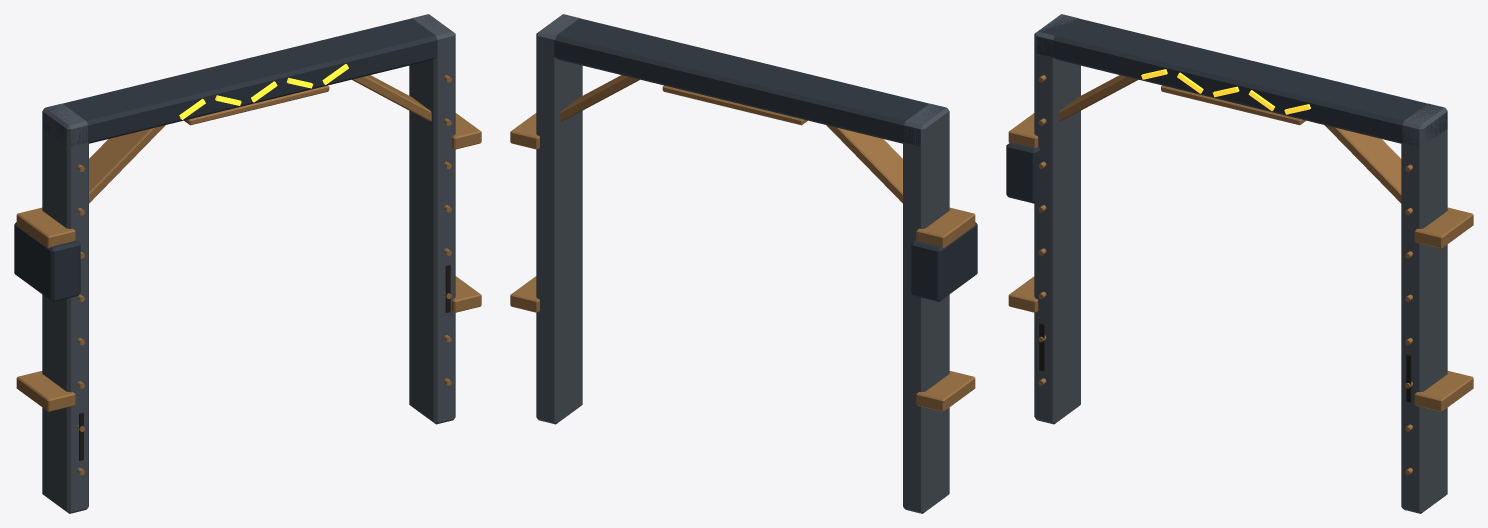
File: runtime.glb
3 renders of one model, left to right at view 1: azimuth 30°, elevation 25°; view 2: azimuth 150°, elevation 25°; view 3: azimuth 330°, elevation 25°, orthographic.
Parts seen in each view (by area): view 1: kinetic-tide-machine-frame-v05_plate_nocol, kinetic-tide-machine-frame-v05_steel_nocol, kinetic-tide-machine-frame-v05_bronze_nocol, kinetic-tide-machine-frame-v05_warningorange_nocol; view 2: kinetic-tide-machine-frame-v05_plate_nocol, kinetic-tide-machine-frame-v05_steel_nocol, kinetic-tide-machine-frame-v05_bronze_nocol; view 3: kinetic-tide-machine-frame-v05_plate_nocol, kinetic-tide-machine-frame-v05_steel_nocol, kinetic-tide-machine-frame-v05_bronze_nocol, kinetic-tide-machine-frame-v05_warningorange_nocol, kinetic-tide-machine-frame-v05_weardark_nocol.
Part boxes in pixels (left/top/right/bottom): kinetic-tide-machine-frame-v05_plate_nocol: left=42, top=14, right=455, bottom=513; kinetic-tide-machine-frame-v05_steel_nocol: left=14, top=17, right=437, bottom=301; kinetic-tide-machine-frame-v05_bronze_nocol: left=16, top=75, right=481, bottom=475; kinetic-tide-machine-frame-v05_warningorange_nocol: left=179, top=64, right=348, bottom=119; kinetic-tide-machine-frame-v05_plate_nocol: left=536, top=14, right=949, bottom=513; kinetic-tide-machine-frame-v05_steel_nocol: left=537, top=18, right=977, bottom=301; kinetic-tide-machine-frame-v05_bronze_nocol: left=510, top=75, right=975, bottom=411; kinetic-tide-machine-frame-v05_plate_nocol: left=1034, top=14, right=1447, bottom=513; kinetic-tide-machine-frame-v05_steel_nocol: left=1006, top=15, right=1447, bottom=203; kinetic-tide-machine-frame-v05_bronze_nocol: left=1008, top=75, right=1473, bottom=475; kinetic-tide-machine-frame-v05_warningorange_nocol: left=1141, top=69, right=1310, bottom=114; kinetic-tide-machine-frame-v05_weardark_nocol: left=1039, top=323, right=1411, bottom=402.
Bounding box in the file's own units: 11.26 × 9.63 × 1.75.
